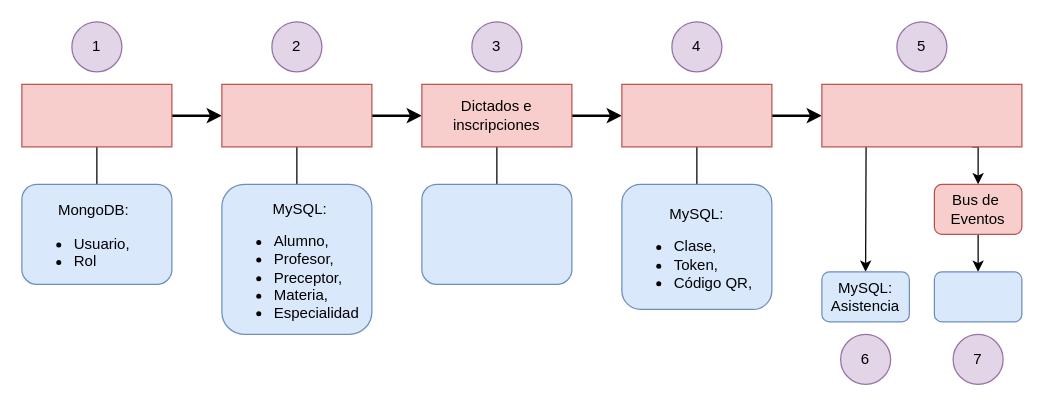
The diagram is 1044 pixels wide and 406 high, and some of its shapes have lost their labels. Each missing label, with the centre of its shape:
Autenticación y control de roles: point 96,115
Clases (Apertura QR / Código): point 696,115
Gestión administrativa (ABM): point 296,115
MySQL: Dictado, Inscribe,: point 496,233
Preceptor: point 977,296
Registro de Asistencia (QR / código/ manual): point 921,115
